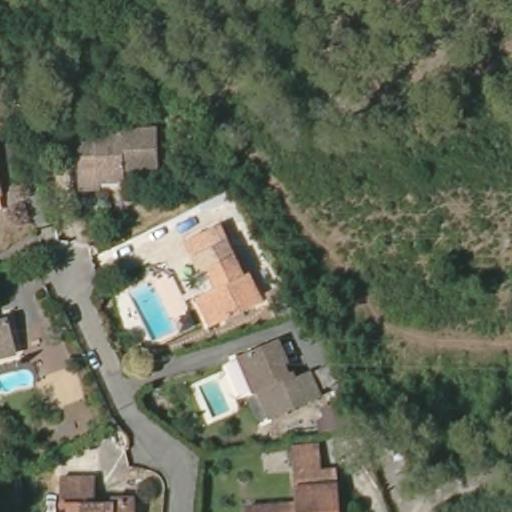pool: (125, 275, 179, 343), (196, 379, 235, 421), (1, 367, 40, 396)
